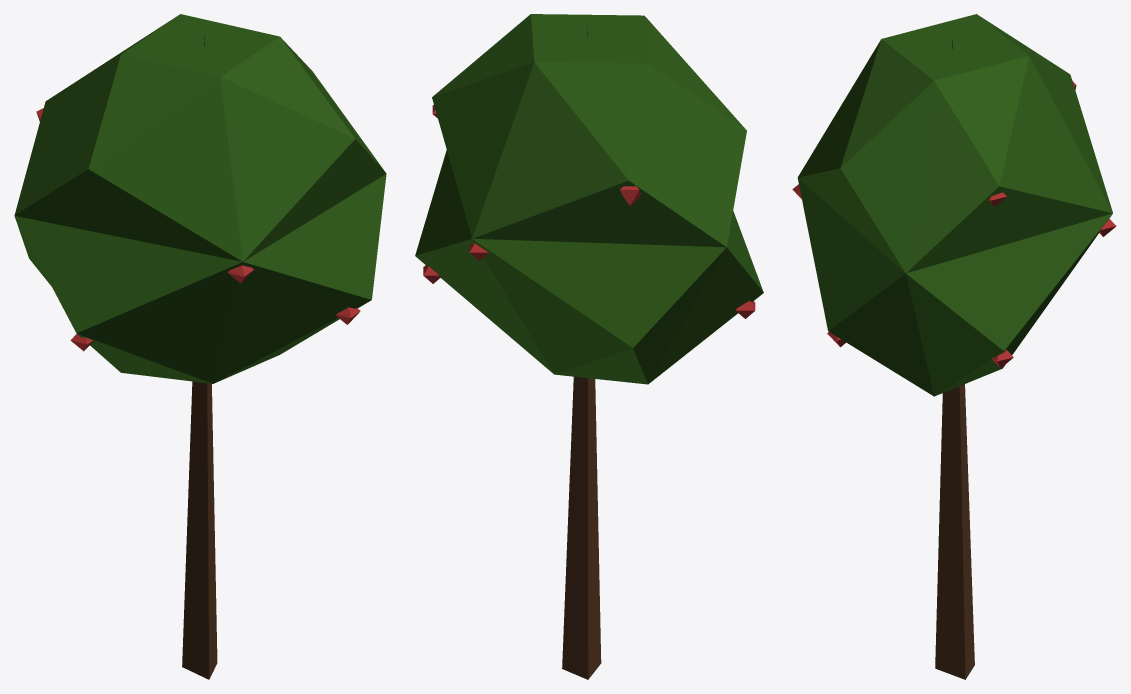
Rendered from APPLE TREE.fbx.
3 views of the same model, side by side, from view 1: azimuth 30°, elevation 25°; view 2: azimuth 150°, elevation 25°; view 3: azimuth 270°, elevation 25° (orthographic).
Parts seen in each view (by area): view 1: Polygon_27_4, Polygon_27_4_2, APPLES; view 2: Polygon_27_4, Polygon_27_4_2, APPLES; view 3: Polygon_27_4, Polygon_27_4_2, APPLES.
Boxes of the visible parts, x1,y1,x2,y2 form: Polygon_27_4: (14, 14, 386, 383); Polygon_27_4_2: (182, 34, 217, 679); APPLES: (36, 108, 360, 351); Polygon_27_4: (415, 14, 763, 384); Polygon_27_4_2: (562, 23, 601, 679); APPLES: (423, 105, 755, 318); Polygon_27_4: (797, 14, 1112, 396); Polygon_27_4_2: (935, 40, 974, 679); APPLES: (792, 81, 1116, 368).
Bounding box in the file's own units: 336 × 639 × 295.
Materials: 1 (1 with a texture image).
